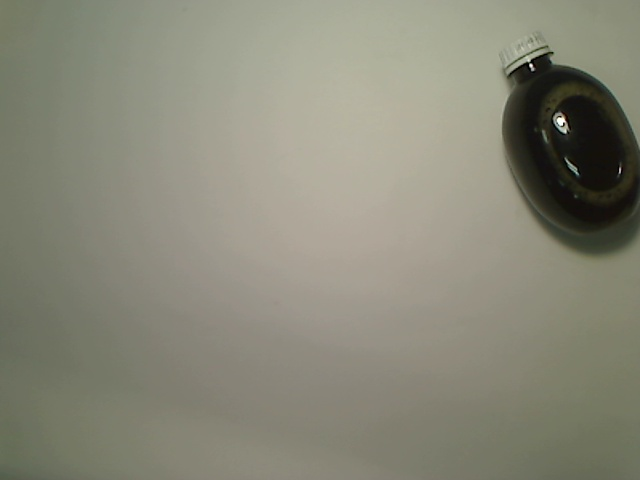plast_bottle: (498, 30, 640, 240)
